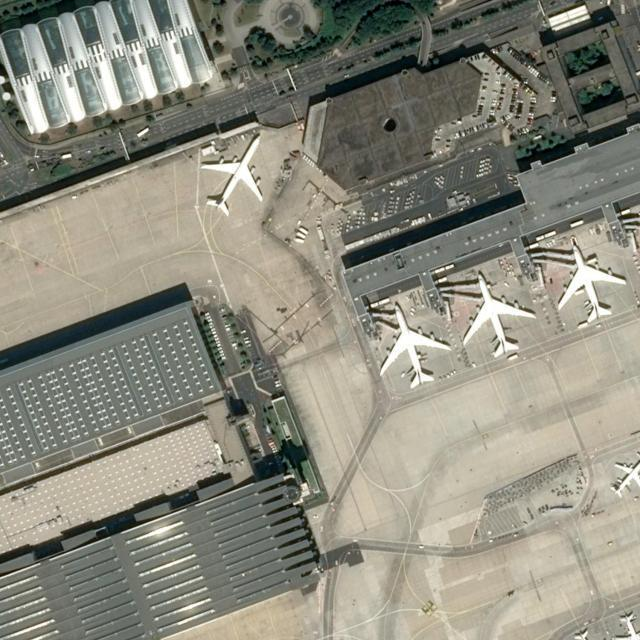Aircraft: (461, 273, 539, 360), (376, 300, 453, 388), (459, 271, 536, 359), (376, 301, 450, 389), (555, 241, 629, 324), (554, 242, 626, 325), (197, 137, 265, 220), (199, 131, 265, 216), (606, 451, 640, 497), (608, 452, 640, 497), (612, 610, 639, 640), (615, 612, 639, 640)
